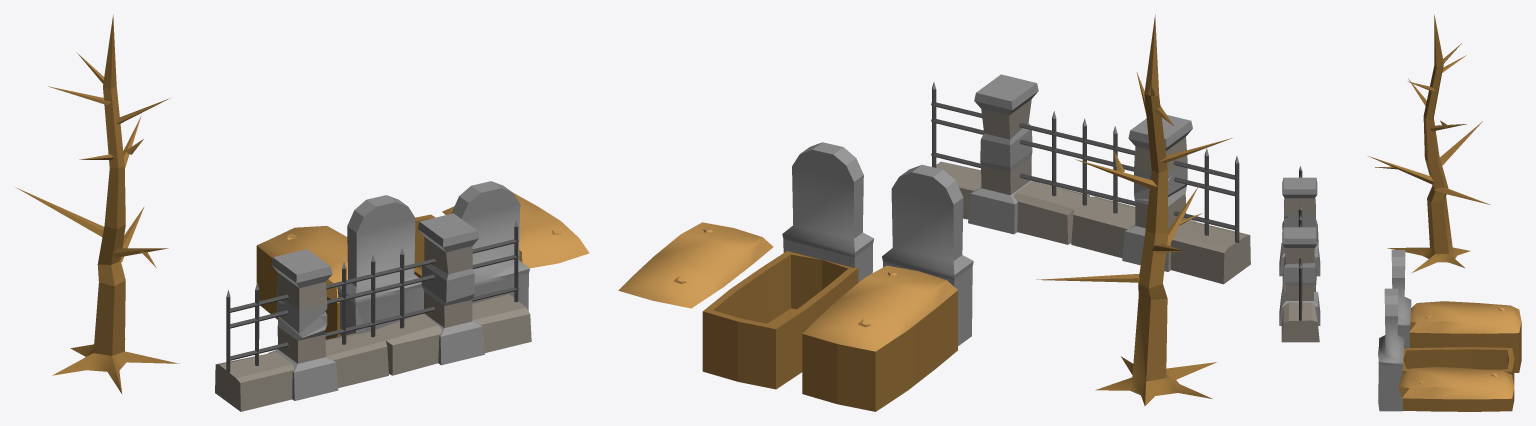
The model's file is Grave.fbx.
The picture shows the model from 3 angles, left to right: view 1: azimuth 30°, elevation 25°; view 2: azimuth 150°, elevation 25°; view 3: azimuth 270°, elevation 25°; orthographic projection. The views are drawn at different scales.
Parts seen in each view (by area): view 1: graveyard_wall_stone__23_, tree_dry__4_, gravestone_round__2_, gravestone_round__2_.001, grave_dirt__20_.002, grave_dirt__20_, grave_dirt__20_.001, grave_dirt__20_.003; view 2: graveyard_wall_stone__23_, grave_dirt__20_.003, tree_dry__4_, grave_dirt__20_.001, gravestone_round__2_.001, gravestone_round__2_, grave_dirt__20_, grave_dirt__20_.002; view 3: graveyard_wall_stone__23_, tree_dry__4_, grave_dirt__20_.003, grave_dirt__20_.002, grave_dirt__20_, gravestone_round__2_.001, grave_dirt__20_.001, gravestone_round__2_.
Part boxes in pixels (left/top/right/bottom): graveyard_wall_stone__23_: left=215, top=213, right=531, bottom=411; tree_dry__4_: left=15, top=15, right=179, bottom=394; gravestone_round__2_: left=337, top=195, right=424, bottom=336; gravestone_round__2_.001: left=452, top=181, right=529, bottom=310; grave_dirt__20_.002: left=442, top=193, right=589, bottom=268; grave_dirt__20_: left=257, top=226, right=347, bottom=303; grave_dirt__20_.001: left=256, top=246, right=340, bottom=339; grave_dirt__20_.003: left=414, top=214, right=435, bottom=308; graveyard_wall_stone__23_: left=931, top=74, right=1250, bottom=284; grave_dirt__20_.003: left=702, top=251, right=858, bottom=389; tree_dry__4_: left=1036, top=14, right=1232, bottom=405; grave_dirt__20_.001: left=802, top=290, right=957, bottom=411; gravestone_round__2_.001: left=782, top=142, right=874, bottom=282; gravestone_round__2_: left=882, top=164, right=973, bottom=345; grave_dirt__20_: left=802, top=265, right=957, bottom=351; grave_dirt__20_.002: left=618, top=222, right=773, bottom=308; graveyard_wall_stone__23_: left=1279, top=166, right=1320, bottom=342; tree_dry__4_: left=1368, top=14, right=1490, bottom=272; grave_dirt__20_.003: left=1402, top=347, right=1514, bottom=411; grave_dirt__20_.002: left=1398, top=367, right=1514, bottom=399; grave_dirt__20_: left=1409, top=301, right=1521, bottom=333; gravestone_round__2_.001: left=1378, top=288, right=1404, bottom=411; grave_dirt__20_.001: left=1409, top=321, right=1521, bottom=372; gravestone_round__2_: left=1391, top=250, right=1411, bottom=348.
Bounding box in the file's own units: 717 × 514 × 417.
1 material, 1 textured.
